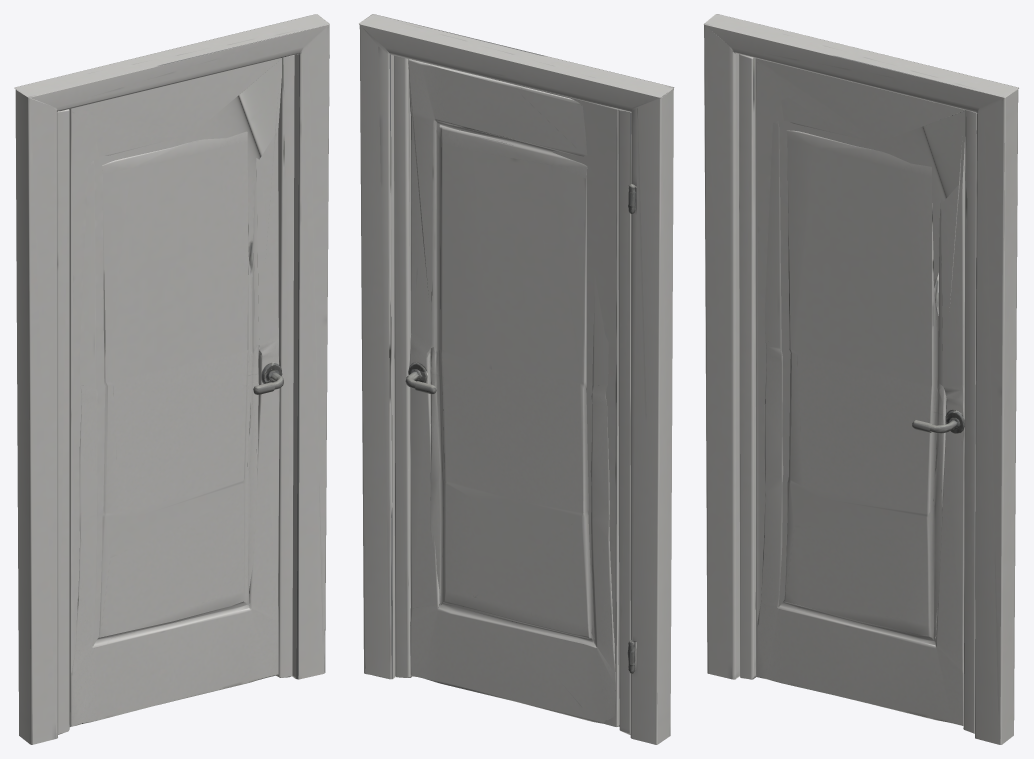
The model's file is Meshy_AI_an_office_door_0903105857_texture.glb.
3 views of the same model, side by side, from view 1: azimuth 30°, elevation 25°; view 2: azimuth 150°, elevation 25°; view 3: azimuth 330°, elevation 25° (orthographic).
Parts seen in each view (by area): view 1: mesh_node; view 2: mesh_node; view 3: mesh_node.
Part boxes in pixels (x1,y1,x2,y2): mesh_node: (14,14,329,744); mesh_node: (358,14,674,744); mesh_node: (703,14,1019,744).
Size of the model in its own units: 0.4902 by 1 by 0.0952.
1 material, 1 textured.
